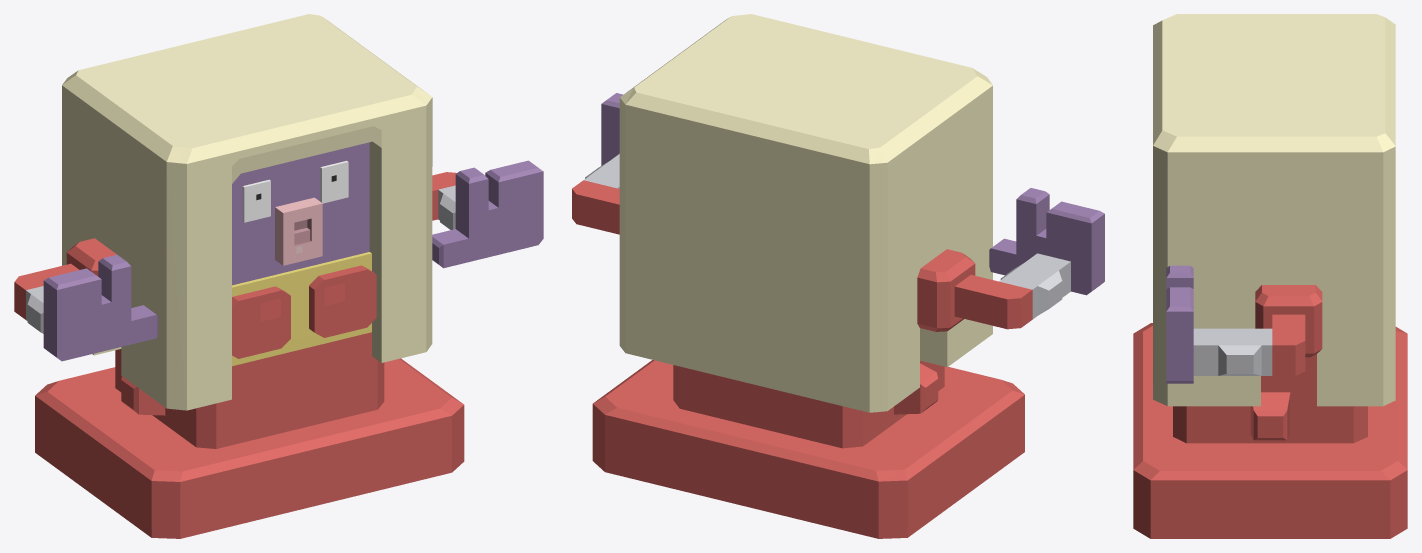
The picture shows the model from 3 angles, left to right: view 1: azimuth 30°, elevation 25°; view 2: azimuth 150°, elevation 25°; view 3: azimuth 270°, elevation 25°; orthographic projection. The views are drawn at different scales.
Parts seen in each view (by area): view 1: 0124_jynx; view 2: 0124_jynx; view 3: 0124_jynx.
Boxes of the visible parts, box(x1,y1,x2,y2) form: 0124_jynx: box(14, 14, 543, 538); 0124_jynx: box(572, 14, 1104, 538); 0124_jynx: box(1133, 14, 1407, 538).
Size of the model in its own units: 2.98 by 2.19 by 1.41.
1 material, 1 textured.
